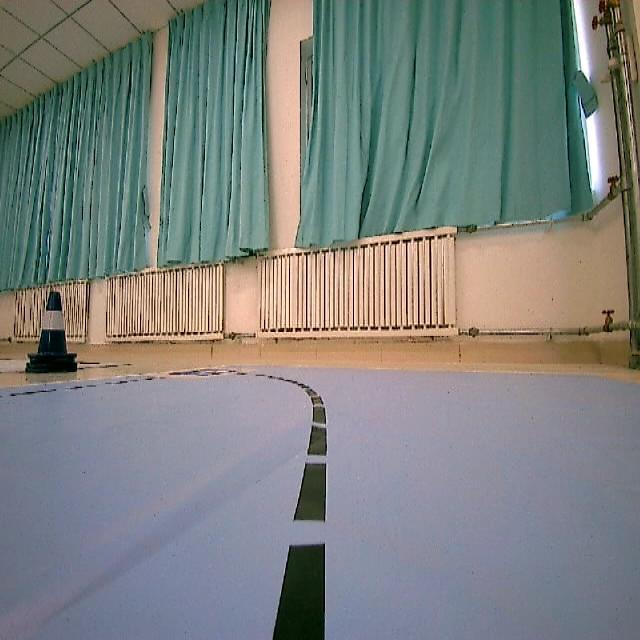obstacle: (18, 293, 82, 384)
